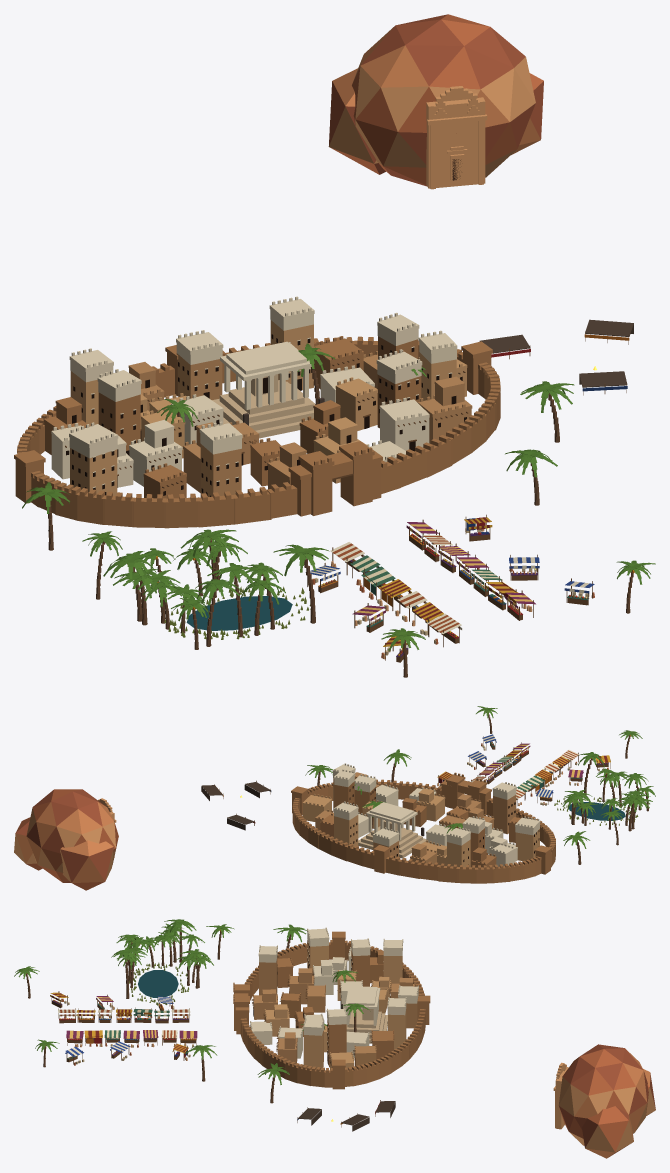
The model's file is town.glb.
The picture shows the model from 3 angles, top to bottom: view 1: azimuth 30°, elevation 25°; view 2: azimuth 150°, elevation 25°; view 3: azimuth 270°, elevation 25°; orthographic projection. The views are drawn at different scales.
Visible parts, largest first — view 1: Town; view 2: Town; view 3: Town.
Boxes of the visible parts, x1,y1,x2,y2 form: Town: (14, 14, 655, 677); Town: (14, 706, 655, 890); Town: (14, 919, 655, 1158).
Bounding box in the file's own units: 142 × 29.96 × 169.
